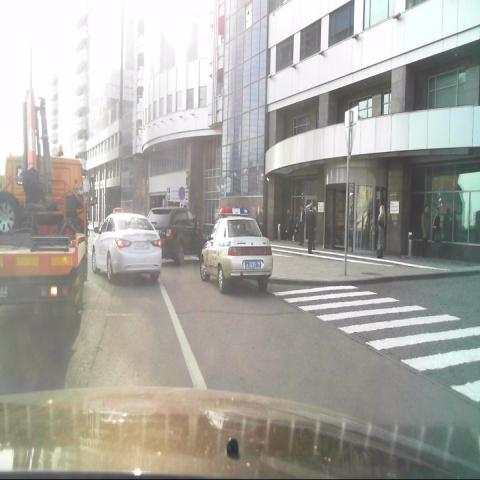3_27: (178, 185, 185, 201)
